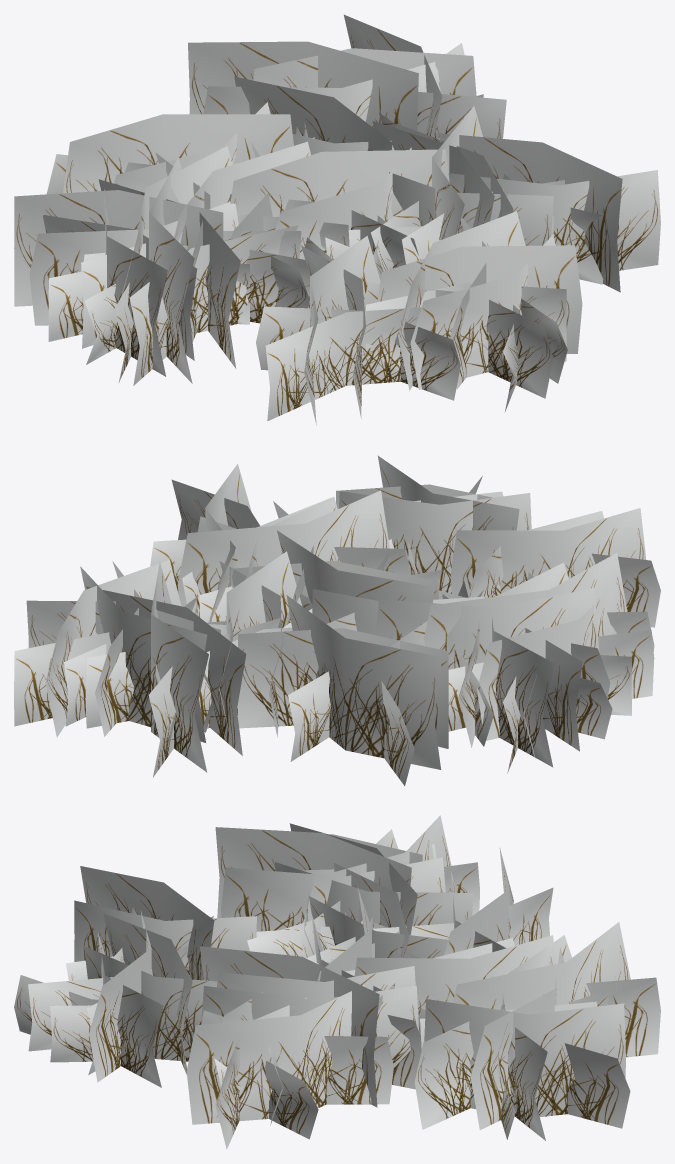
The model's file is grass1.dae.
3 renders of one model, top to bottom at view 1: azimuth 30°, elevation 25°; view 2: azimuth 150°, elevation 25°; view 3: azimuth 270°, elevation 25°, orthographic. The views are drawn at different scales.
Parts seen in each view (by area): view 1: wet_grass (×52); view 2: wet_grass (×48); view 3: wet_grass (×43).
Part boxes in pixels (left/top/right/bottom): wet_grass (×52): left=14, top=14, right=660, bottom=425; wet_grass (×48): left=14, top=455, right=660, bottom=785; wet_grass (×43): left=14, top=815, right=660, bottom=1149.
Size of the model in its own units: 94.46 by 108 by 21.14.
